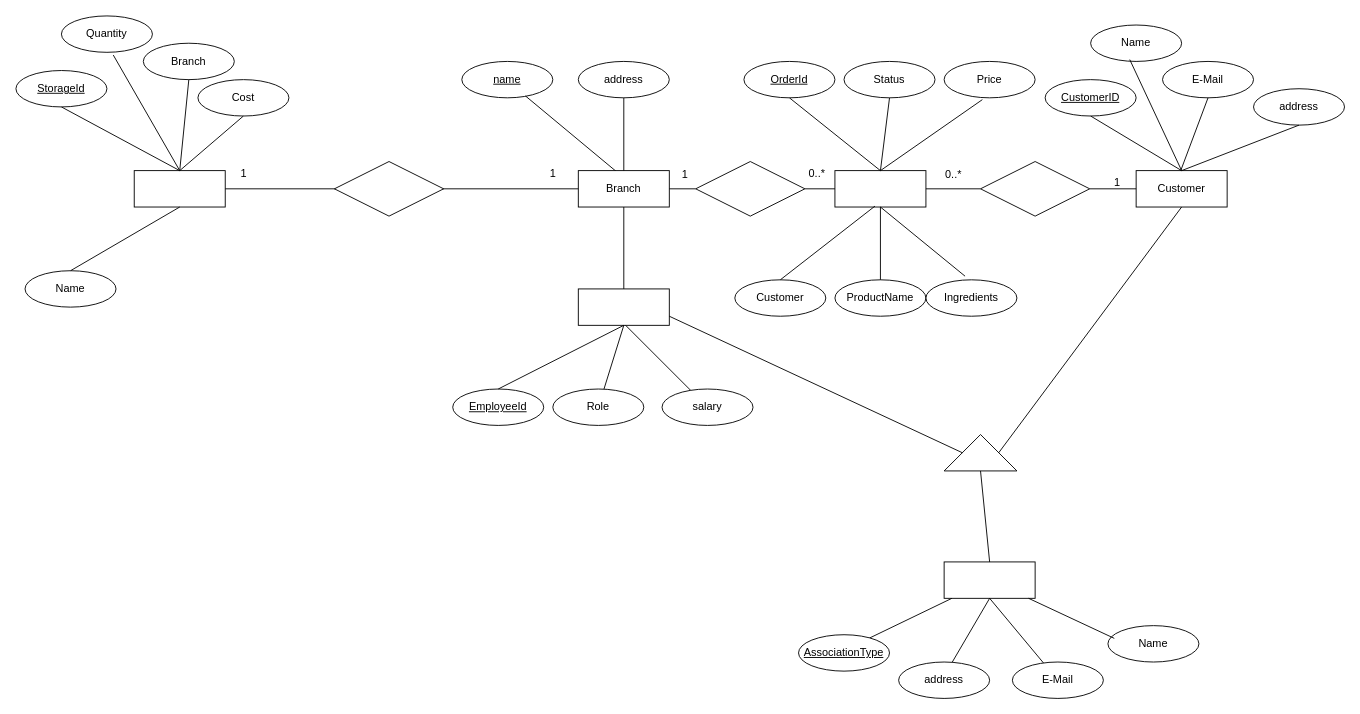
The diagram is 1360 pixels wide and 714 high, and some of its shapes have lost their labels. Here are the shapes that lost their labels. From the top down, the box of each, then its label:
(133, 170, 225, 207): Storage
(334, 161, 444, 216): has a
(695, 161, 805, 216): handles
(834, 170, 926, 207): Order
(980, 161, 1090, 216): takes
(577, 288, 669, 325): Employee
(943, 434, 1017, 471): isA
(943, 561, 1035, 598): Person
